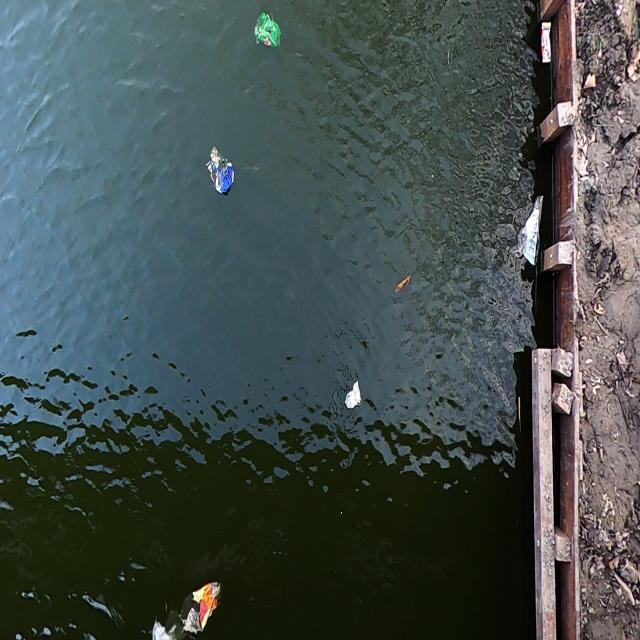Autre plastique: (538, 23, 555, 67)
Sac plastique: (148, 572, 226, 640), (517, 190, 548, 272), (202, 140, 238, 207), (248, 11, 288, 56)
